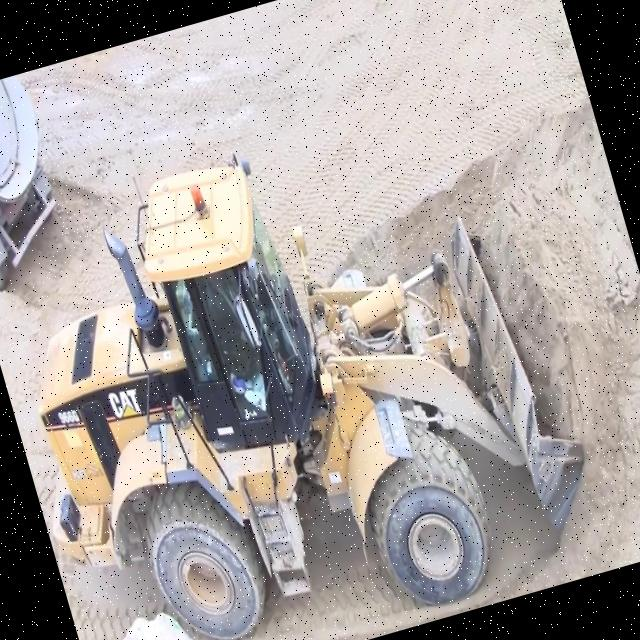Dump Truck: (0, 71, 82, 298)
Loader: (0, 89, 613, 640)
